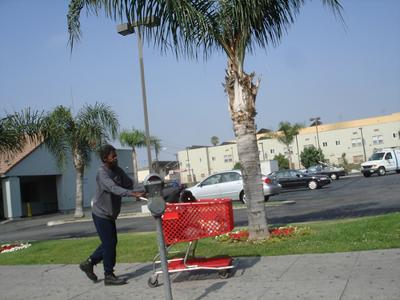person: (80, 146, 150, 287)
